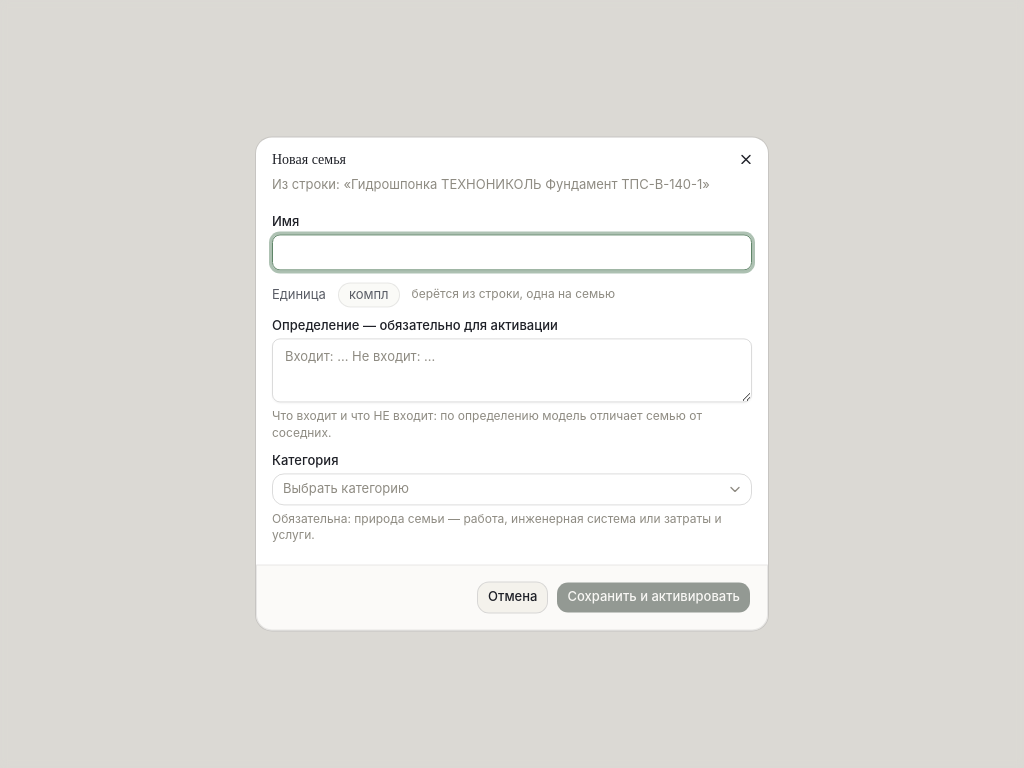
Test: CreateFamilyDialog › ответ «СИСТЕМА» не подставляется именем: поле пустое, кнопка неактивна, пока имя не введено
expect the field labelled "Имя" is empty: met, box [272,234,752,270]
Type "Входит: дымоудаление. Не входит: вентиляция." into the text box labelled "Определение — обязательно для активации" at (512, 370), box [272,338,752,402]
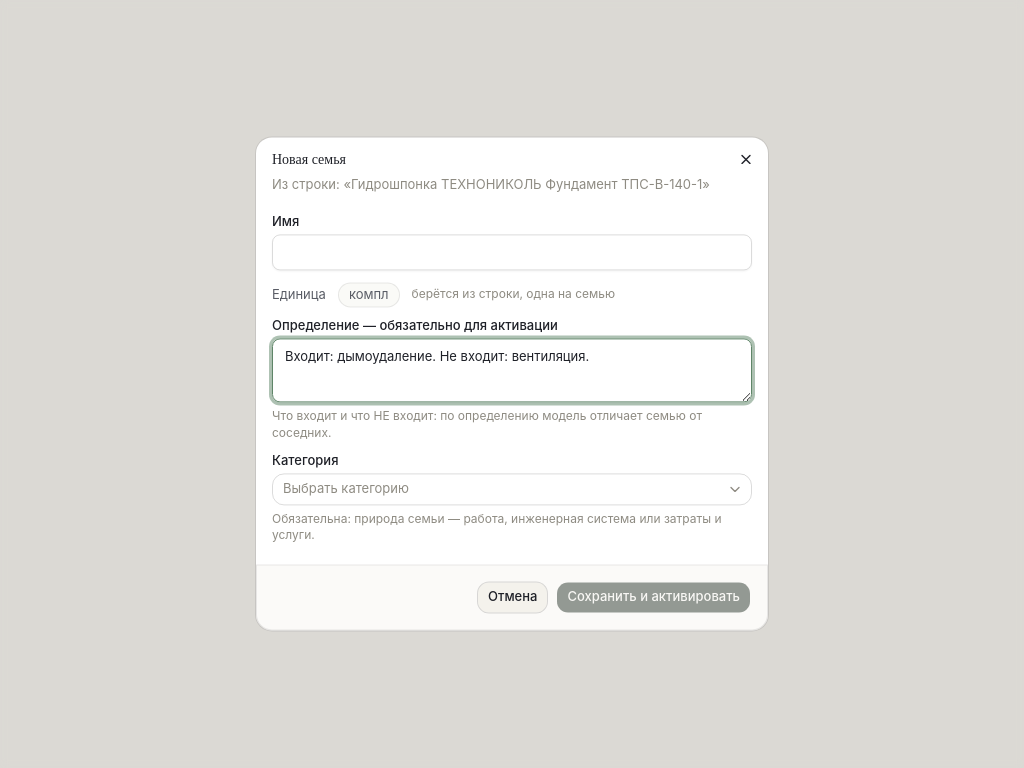
Click the dropdown named "Категория" at (346, 488), box [272,473,752,505]
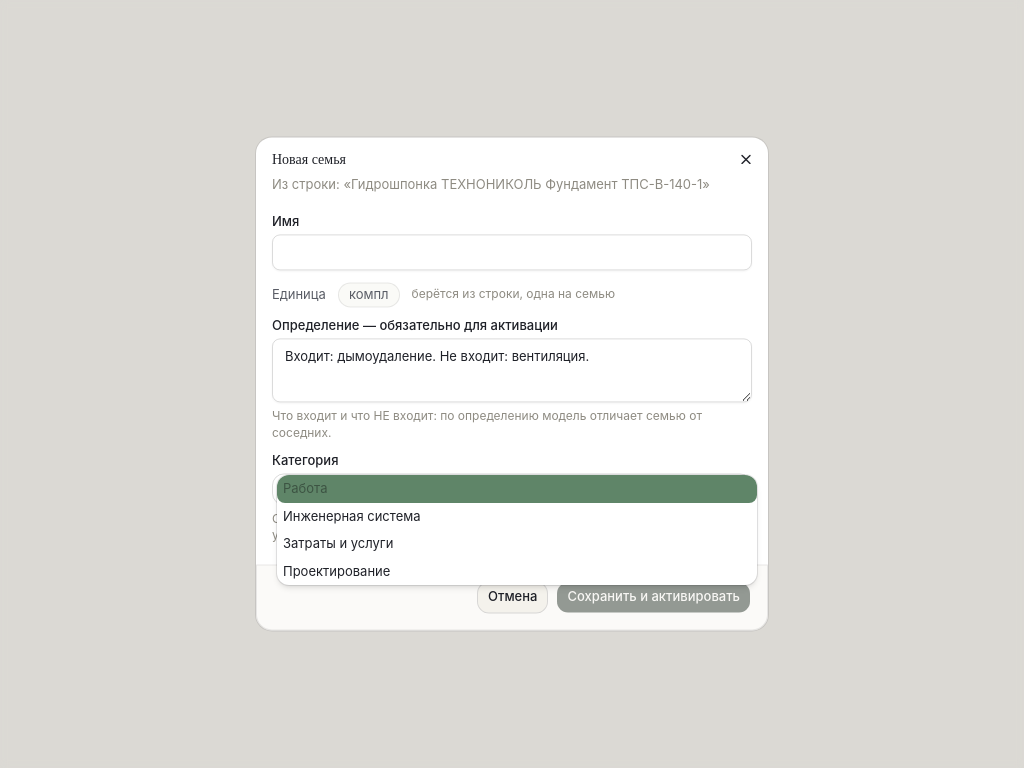
Click the option "Инженерная система" at (352, 516), box [283,508,420,524]
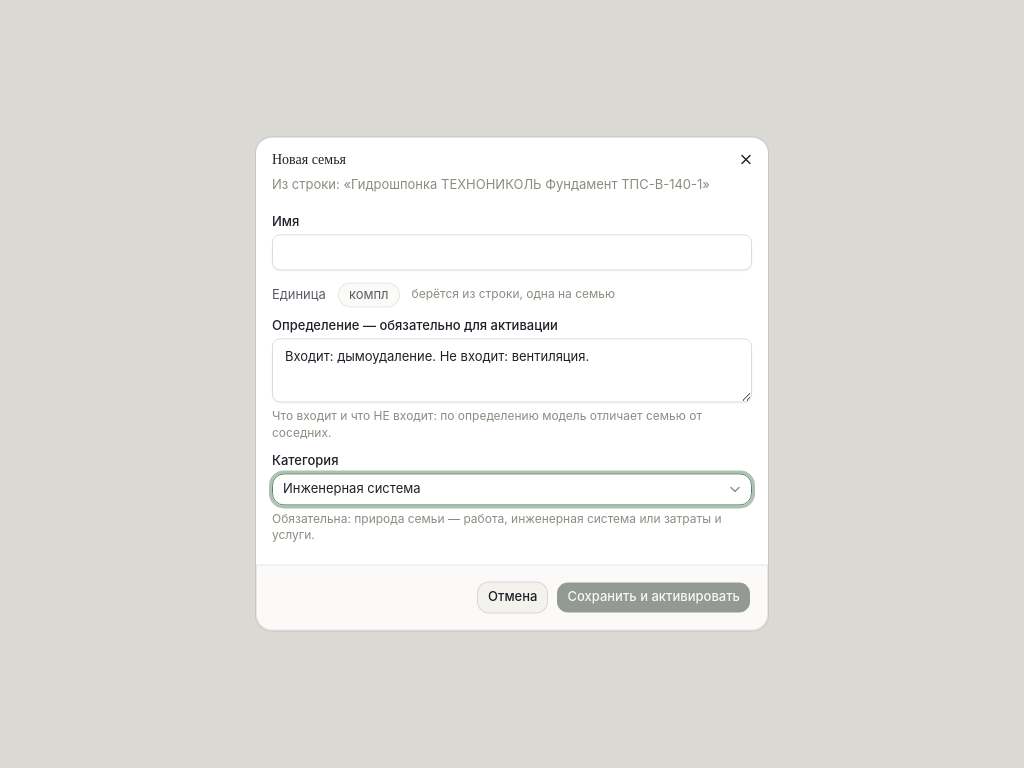
expect the button "Сохранить и активировать" is disabled: met, box [556,582,751,614]
Type "Система дымоудаления" into the field labelled "Имя" at (512, 252), box [272,234,752,270]
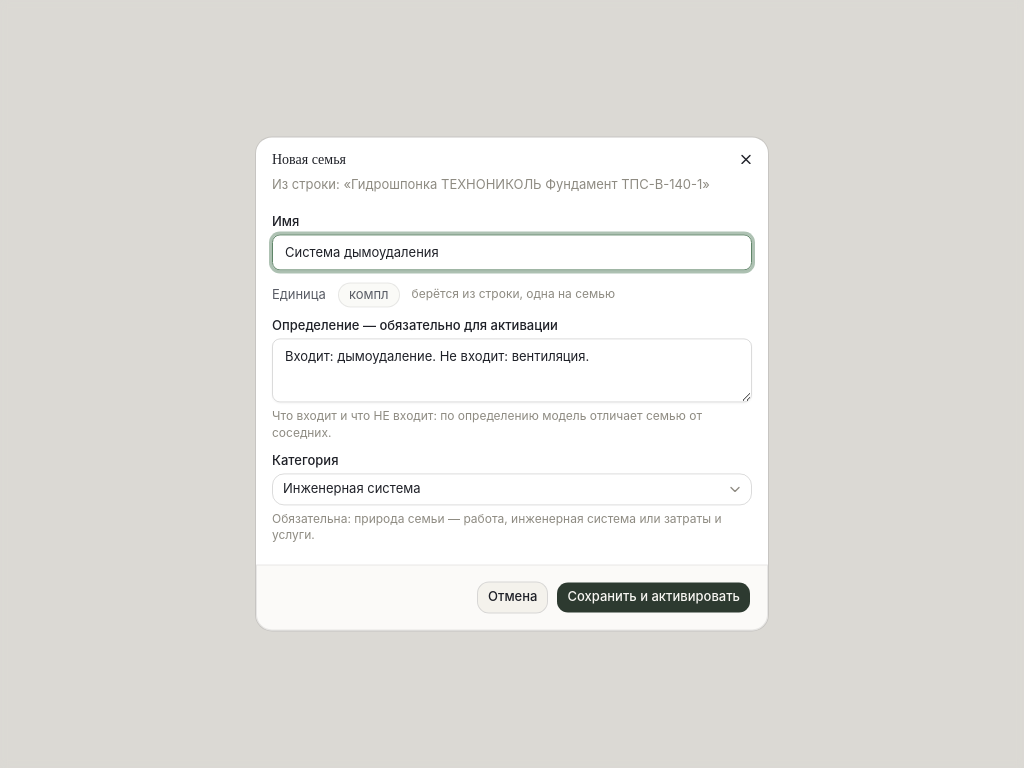
expect the button "Сохранить и активировать" is enabled: met, box [556,582,751,614]
